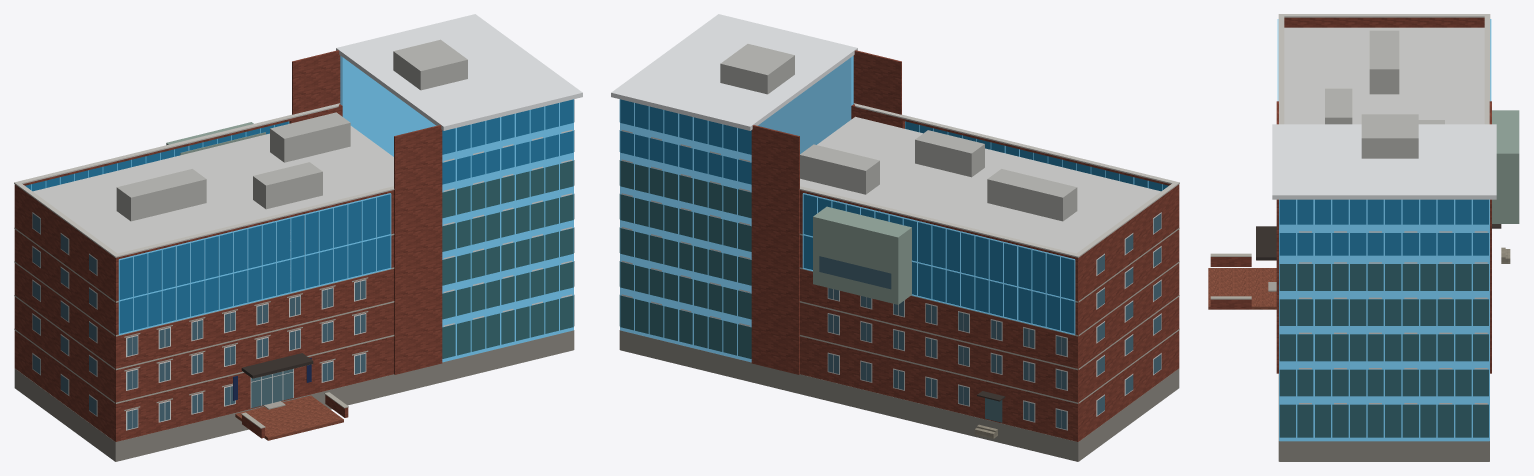
3 views of the same model, side by side, from view 1: azimuth 30°, elevation 25°; view 2: azimuth 150°, elevation 25°; view 3: azimuth 270°, elevation 25° (orthographic). The views are drawn at different scales.
Visible parts, largest first — view 1: w451562721__brick-wall, w451562721__blue-glass, w451562721__curtain-frame-wall, w451562721__teal-glass, w451562721__roof, w451562721__eave-white, w451562721__box-wall, w451562721__foundation-wall, w451562721__glass, w451562721__frame, w451562721__coping-stone, w451562721__band-wall (+3 smaller); view 2: w451562721__brick-wall, w451562721__blue-glass, w451562721__teal-glass, w451562721__roof, w451562721__curtain-frame-wall, w451562721__eave-white, w451562721__box-wall, w451562721__foundation-wall, w451562721__glass, w451562721__mortar-wall, w451562721__frame, w451562721__coping-stone (+1 smaller); view 3: w451562721__teal-glass, w451562721__curtain-frame-wall, w451562721__roof, w451562721__eave-white, w451562721__blue-glass, w451562721__box-wall, w451562721__foundation-wall, w451562721__brick-wall, w451562721__mortar-wall, w451562721__paving-brick, w451562721__coping-stone, w451562721__frame (+2 smaller).
Part boxes in pixels (left/top/right/bottom): w451562721__brick-wall: left=14, top=50, right=442, bottom=441; w451562721__blue-glass: left=25, top=99, right=574, bottom=333; w451562721__curtain-frame-wall: left=31, top=55, right=573, bottom=362; w451562721__teal-glass: left=442, top=160, right=574, bottom=358; w451562721__roof: left=33, top=126, right=393, bottom=253; w451562721__eave-white: left=336, top=14, right=582, bottom=130; w451562721__box-wall: left=116, top=39, right=467, bottom=221; w451562721__foundation-wall: left=14, top=330, right=574, bottom=461; w451562721__glass: left=32, top=213, right=365, bottom=429; w451562721__frame: left=32, top=130, right=572, bottom=430; w451562721__coping-stone: left=14, top=103, right=394, bottom=257; w451562721__band-wall: left=14, top=227, right=394, bottom=428; w451562721__brick-wall: left=751, top=50, right=1179, bottom=441; w451562721__blue-glass: left=619, top=99, right=1168, bottom=333; w451562721__teal-glass: left=619, top=160, right=751, bottom=358; w451562721__roof: left=800, top=116, right=1160, bottom=253; w451562721__curtain-frame-wall: left=620, top=55, right=1162, bottom=362; w451562721__eave-white: left=611, top=14, right=857, bottom=130; w451562721__box-wall: left=720, top=44, right=1077, bottom=221; w451562721__foundation-wall: left=619, top=330, right=1179, bottom=461; w451562721__glass: left=819, top=213, right=1161, bottom=429; w451562721__mortar-wall: left=813, top=206, right=911, bottom=304; w451562721__frame: left=621, top=130, right=1161, bottom=430; w451562721__coping-stone: left=799, top=103, right=1179, bottom=257; w451562721__teal-glass: left=1279, top=264, right=1488, bottom=437; w451562721__curtain-frame-wall: left=1277, top=19, right=1491, bottom=441; w451562721__roof: left=1284, top=27, right=1484, bottom=124; w451562721__eave-white: left=1272, top=124, right=1496, bottom=199; w451562721__blue-glass: left=1279, top=199, right=1488, bottom=255; w451562721__box-wall: left=1325, top=30, right=1444, bottom=158; w451562721__foundation-wall: left=1278, top=374, right=1489, bottom=461; w451562721__brick-wall: left=1210, top=17, right=1491, bottom=373; w451562721__mortar-wall: left=1492, top=110, right=1519, bottom=223; w451562721__paving-brick: left=1208, top=268, right=1276, bottom=309; w451562721__coping-stone: left=1278, top=14, right=1490, bottom=124; w451562721__frame: left=1299, top=231, right=1487, bottom=404.
Size of the model in its own units: 49.03 by 28 by 27.28.
Materials: 20 (3 with a texture image).
